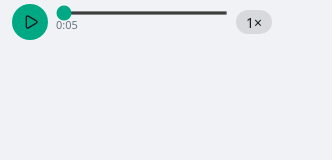
it: AudioPlayer › un play() rechazado porque el origen no sirve también cuenta como fallo
The width and height of the screenshot is (332, 160).
Click the button named "Reproducir": (30, 22) [12,4,48,40]
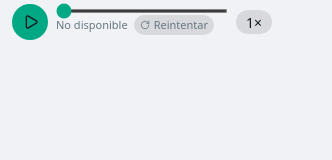
Result: the text "No disponible Reintentar" is shown at [56,15,214,35]
